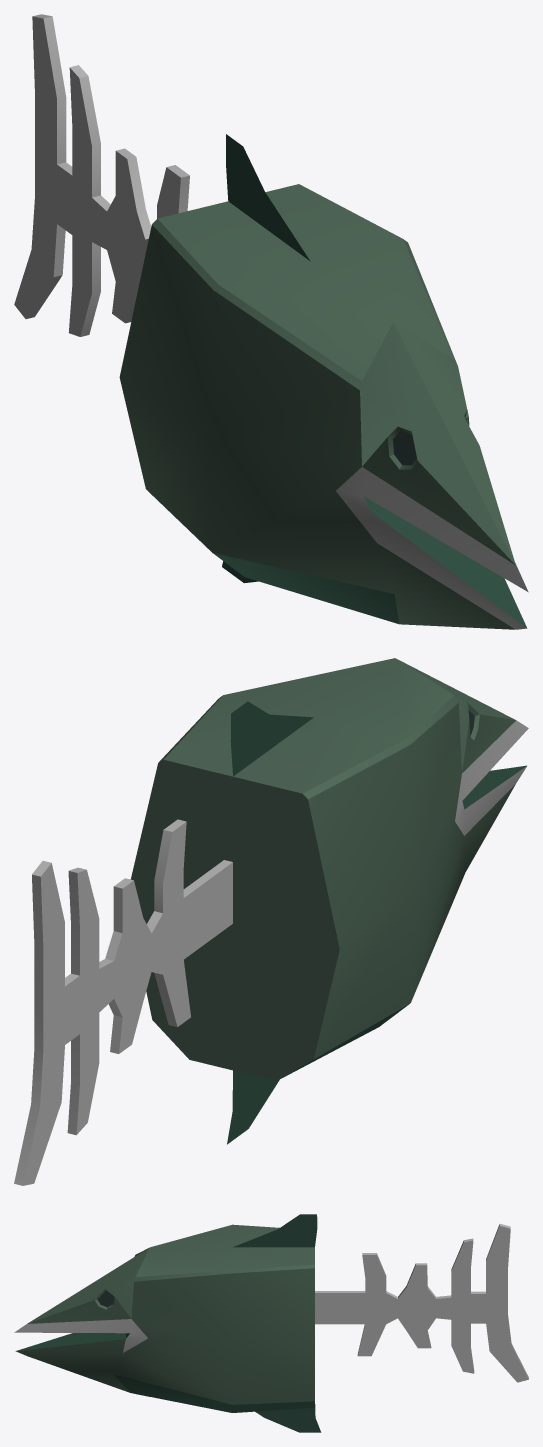
The model's file is Fish rotten bone model .fbx.
3 views of the same model, one above another, from view 1: azimuth 30°, elevation 25°; view 2: azimuth 150°, elevation 25°; view 3: azimuth 270°, elevation 25° (orthographic). The views are drawn at different scales.
Visible parts, largest first — view 1: Cube.002; view 2: Cube.002; view 3: Cube.002.
Boxes of the visible parts, x1,y1,x2,y2 form: Cube.002: [14, 14, 528, 629]; Cube.002: [14, 658, 528, 1185]; Cube.002: [14, 1214, 528, 1432].
Bounding box in the file's own units: 152 × 292 × 624.
